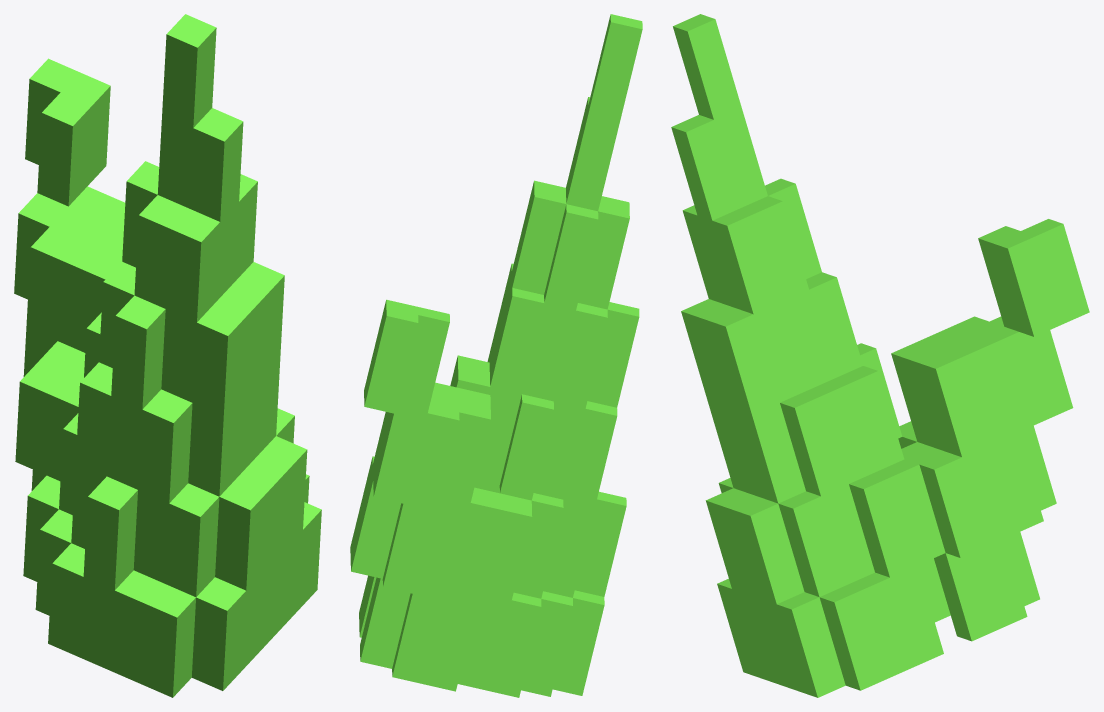
The model's file is grass2.fbx.
3 views of the same model, side by side, from view 1: azimuth 30°, elevation 25°; view 2: azimuth 150°, elevation 25°; view 3: azimuth 270°, elevation 25° (orthographic). The views are drawn at different scales.
Visible parts, largest first — view 1: Cone; view 2: Cone; view 3: Cone.
Boxes of the visible parts, x1,y1,x2,y2 form: Cone: (14, 14, 321, 697); Cone: (350, 14, 642, 697); Cone: (671, 14, 1089, 697).
Size of the model in its own units: 246 by 627 by 377.
